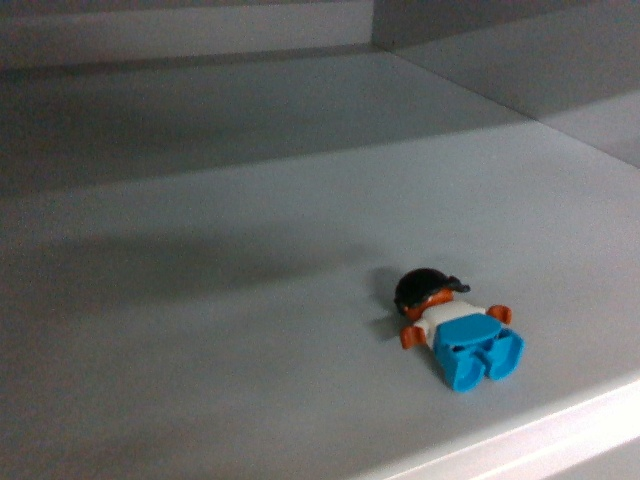people: (388, 268, 527, 389)
